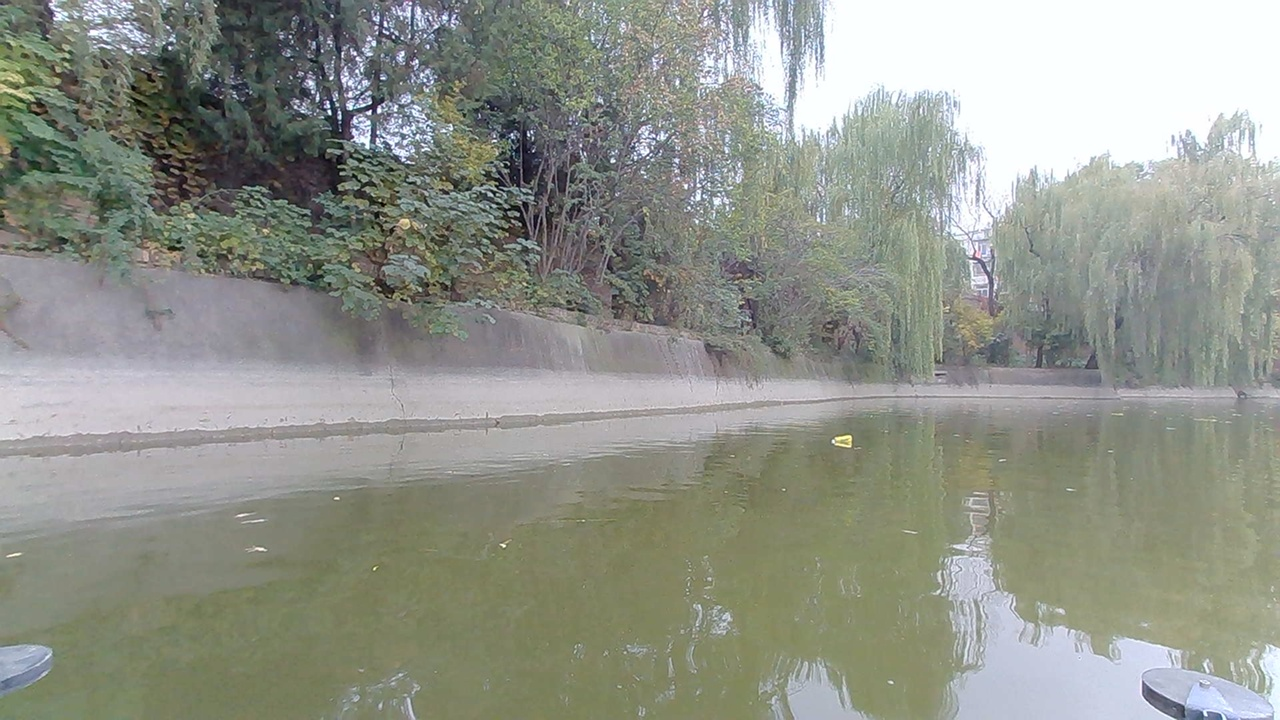bottle: (827, 429, 861, 452)
